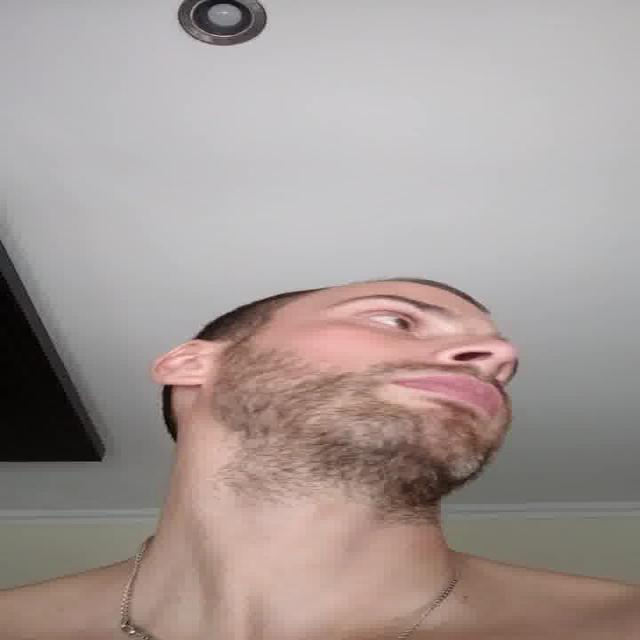earlobe: (151, 340, 208, 389)
